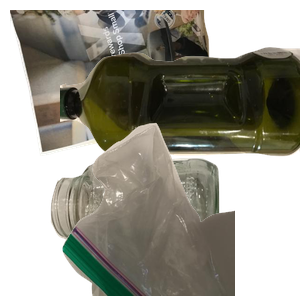glass: (48, 156, 260, 300)
paper: (10, 10, 233, 158)
plastic: (60, 44, 300, 195)
trash: (60, 120, 300, 300)
